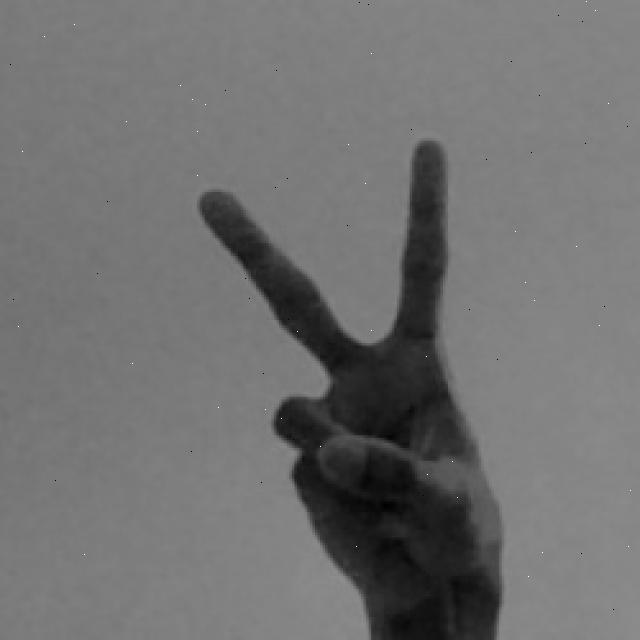V: (187, 129, 509, 640)
